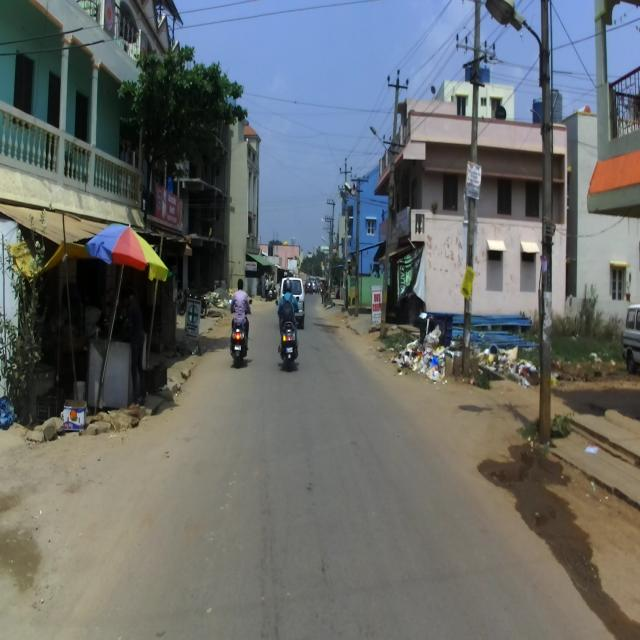electric pole ahead at: (489, 0, 562, 455)
